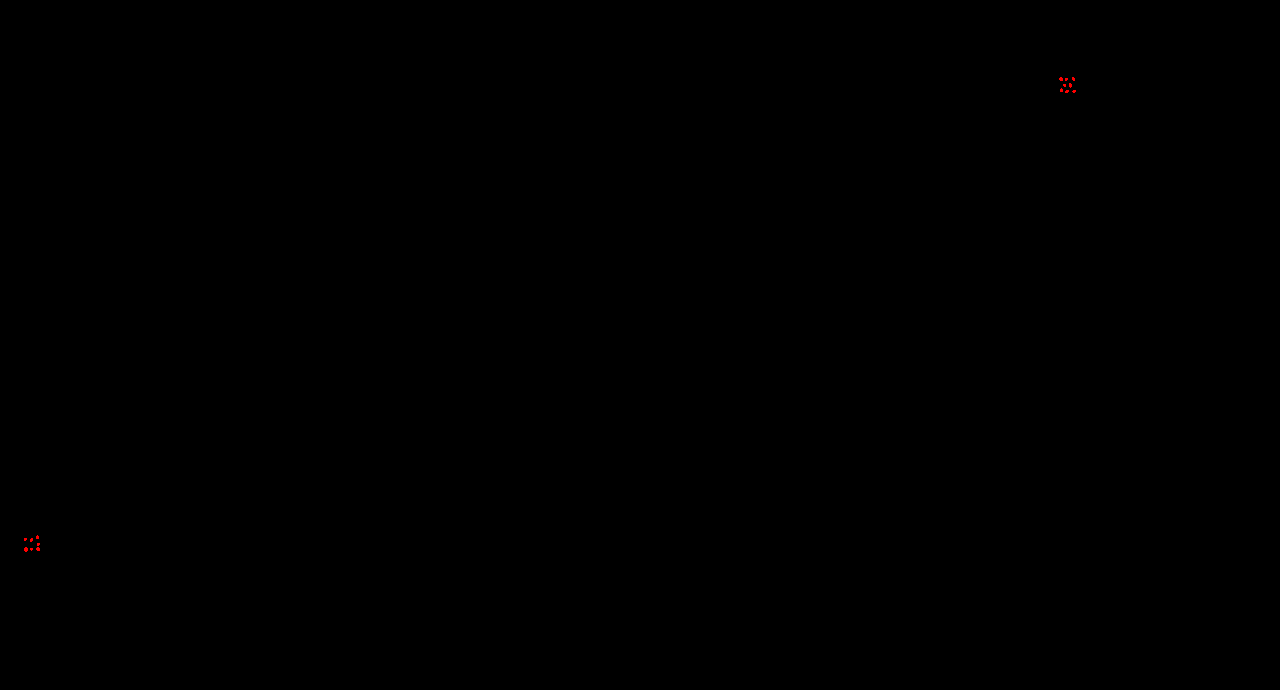Target: (24, 547, 28, 552), (1059, 77, 1063, 81), (36, 547, 40, 551), (1069, 83, 1072, 88), (1072, 77, 1075, 81), (1060, 88, 1063, 92), (1065, 90, 1069, 93), (1072, 90, 1076, 93), (36, 535, 39, 539), (30, 538, 33, 542), (1065, 78, 1068, 81), (1063, 84, 1066, 87), (24, 538, 27, 541), (37, 543, 40, 546), (30, 548, 33, 551)
